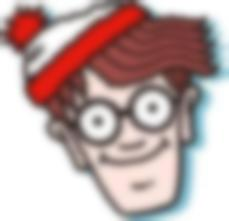waldos: (1, 1, 222, 221)
